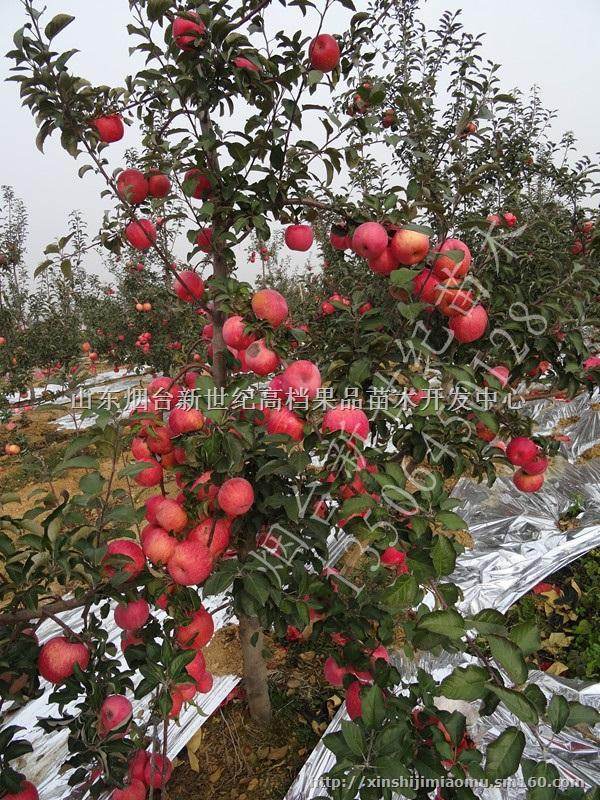apple: (115, 39, 164, 87), (214, 167, 262, 212), (472, 252, 513, 290), (398, 283, 439, 321), (521, 432, 561, 470), (150, 175, 190, 213), (459, 448, 499, 486), (355, 268, 394, 306), (534, 393, 573, 430), (285, 217, 323, 253), (541, 352, 577, 388), (235, 143, 272, 176), (166, 405, 204, 437), (71, 103, 106, 133), (450, 224, 484, 254), (425, 247, 459, 277), (268, 157, 300, 187), (552, 125, 580, 157), (500, 175, 529, 204), (334, 507, 362, 536), (307, 513, 333, 543), (549, 285, 575, 313), (598, 117, 600, 150)
